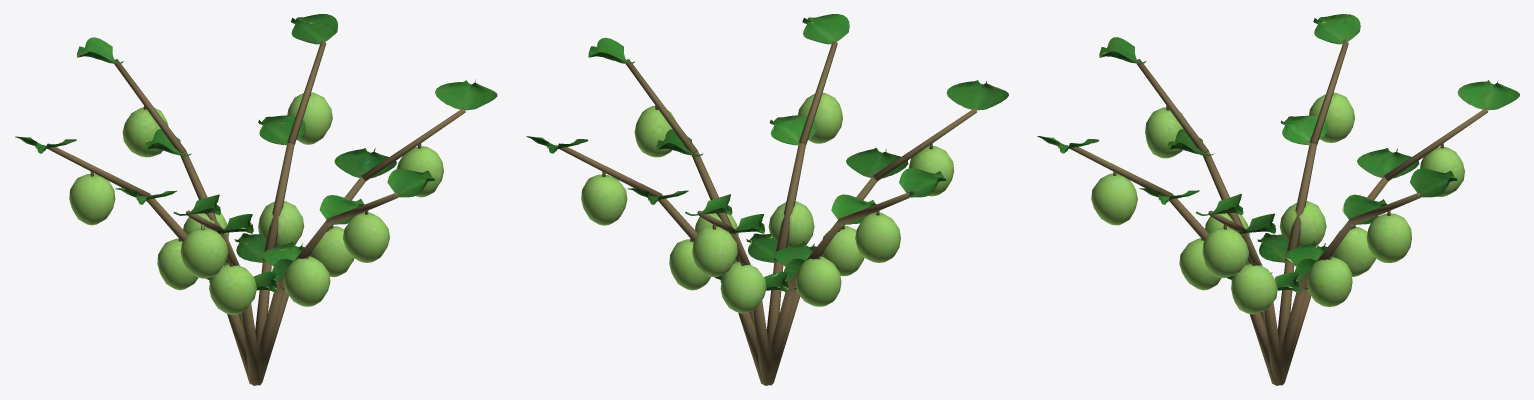
File: crop_gooseberry.glb
3 views of the same model, side by side, from view 1: azimuth 30°, elevation 25°; view 2: azimuth 150°, elevation 25°; view 3: azimuth 270°, elevation 25° (orthographic).
Parts seen in each view (by area): view 1: crop_gooseberry, fruit; view 2: crop_gooseberry, fruit; view 3: crop_gooseberry, fruit.
Boxes of the visible parts, x1,y1,x2,y2 form: crop_gooseberry: (15,14,497,385); fruit: (69,92,443,314); crop_gooseberry: (526,14,1008,385); fruit: (581,92,954,313); crop_gooseberry: (1037,14,1519,385); fruit: (1091,92,1464,314).
Bounding box in the file's own units: 0.3461 × 0.2218 × 0.3561.
Materials: 1 (1 with a texture image).
